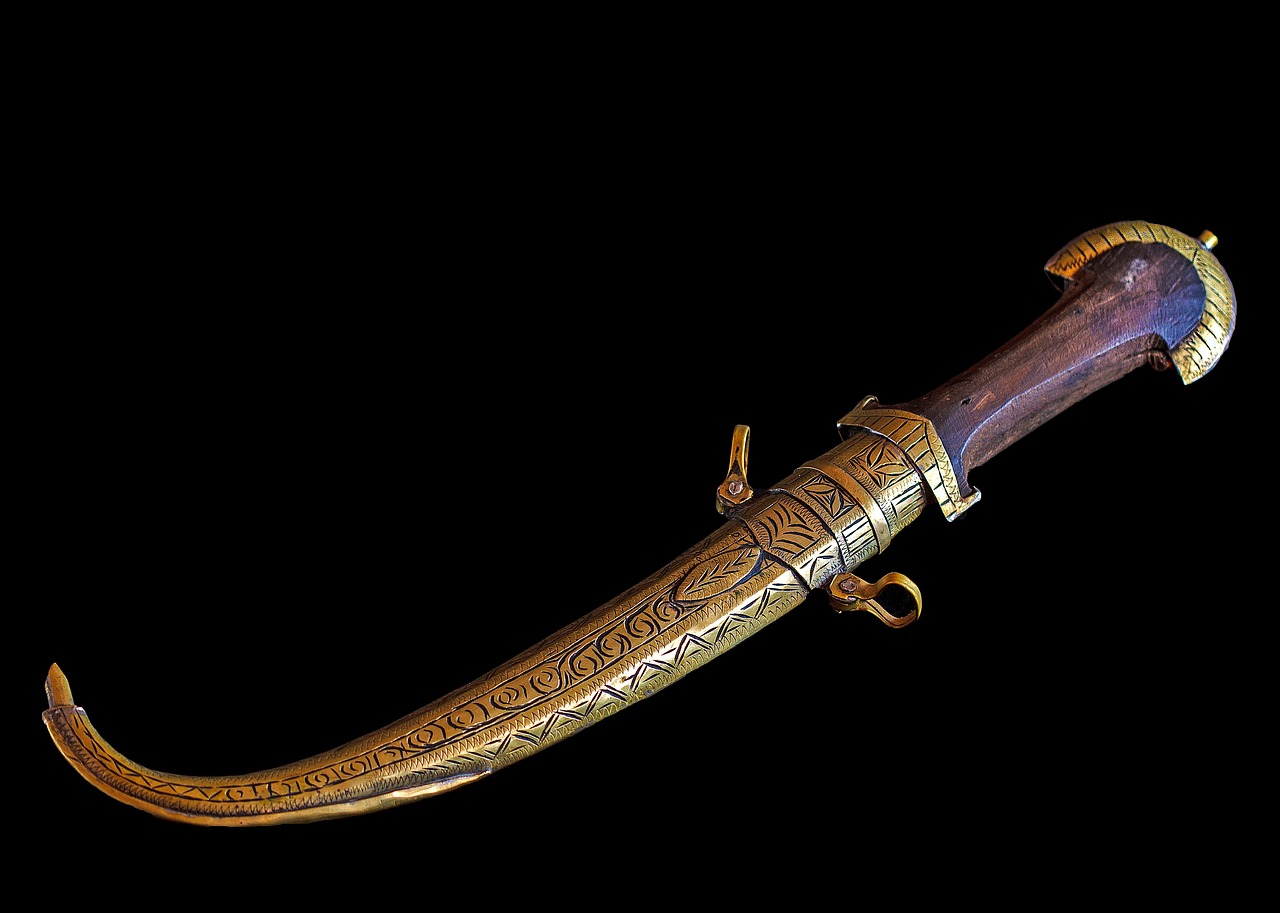knife: (28, 207, 1253, 842)
